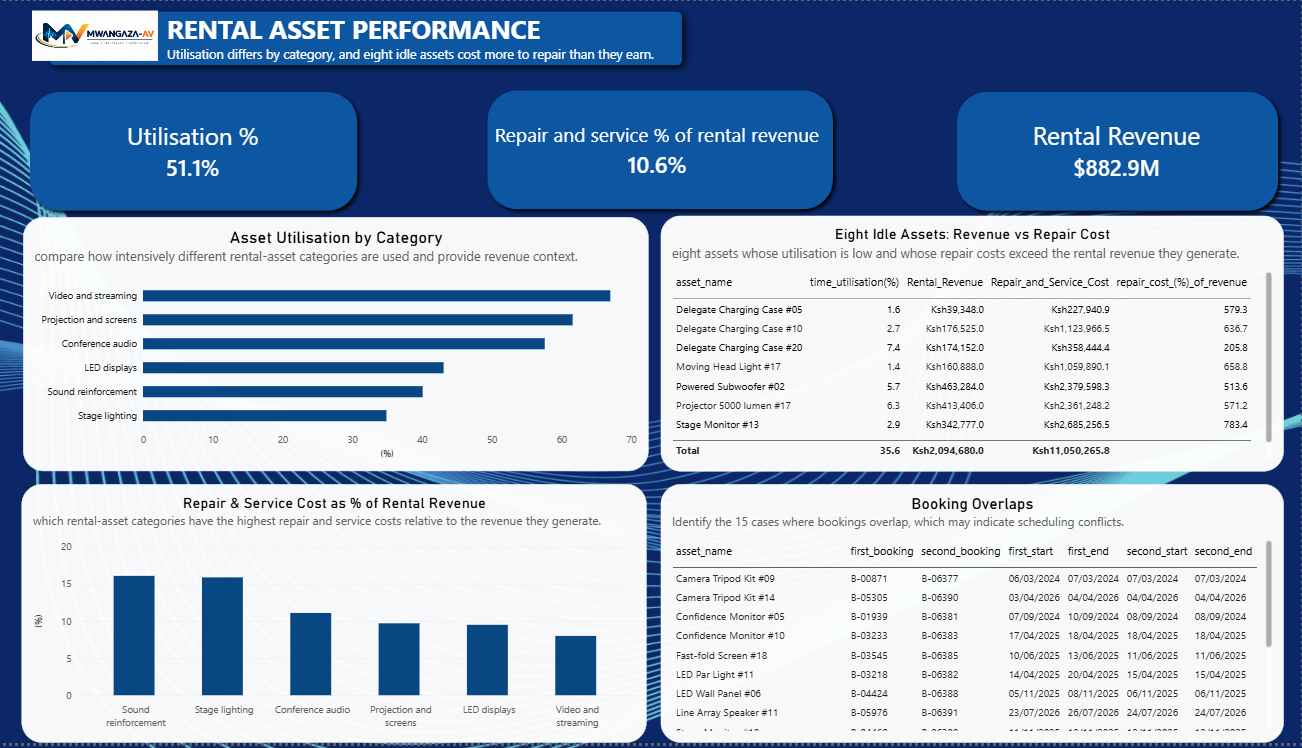

This screenshot's page, from the dashboard's own definition file:
{"tool":"powerbi","page":{"name":"rental assets","canvas":[1920,1080],"ordinal":1},"visuals":[{"type":"shape","box":[85.4,0,950.4,109],"z":0,"group":"g1"},{"type":"shape","box":[1408.7,121.4,487.7,193],"z":1000,"group":"g1"},{"type":"shape","box":[726.4,119.9,523.1,193],"z":2000,"group":"g1"},{"type":"shape","box":[60.4,121.4,496.6,193],"z":3000,"group":"g1"},{"type":"group","id":"g1","title":"Group 1","box":[60.4,0,1836,314.4],"z":3500},{"type":"cardVisual","fields":{"Data":["00_measures.Repair and service % of rental revenue"]},"box":[732.2,139.1,505.9,158.1],"z":4000},{"type":"cardVisual","fields":{"Data":["00_measures.Utilisation %"]},"box":[85.5,121.4,446.9,192.9],"z":5000},{"type":"cardVisual","fields":{"Data":["Sum(mart fact_asset_day.rental_revenue)"]},"box":[1427.8,121.4,450.9,190.2],"z":6000},{"type":"textbox","box":[269.7,14.7,729.1,81.6],"z":7000},{"type":"image","box":[75.1,7.4,183.6,88.4],"z":8000},{"type":"clusteredBarChart","title":"Asset Utilisation by Category","fields":{"Category":["analysis q07_utilisation_by_category.category_name"],"Y":["Sum(analysis q07_utilisation_by_category.time_utilisation_pct)"]},"box":[60.4,315.3,910.6,369.9],"z":9000},{"type":"tableEx","title":"Eight Idle Assets: Revenue vs Repair Cost","fields":{"Values":["analysis q08_idle_assets_and_repair_cost.asset_name","Sum(analysis q08_idle_assets_and_repair_cost.time_utilisation_pct)","Sum(analysis q08_idle_assets_and_repair_cost.rental_revenue)","Sum(analysis q08_idle_assets_and_repair_cost.repair_and_service_cost)","analysis q08_idle_assets_and_repair_cost.repair_cost_pct_of_revenue"]},"box":[988.9,312.8,907.3,372.7],"z":10000},{"type":"clusteredColumnChart","title":"Repair & Service Cost as % of Rental Revenue","fields":{"Category":["analysis q10_repair_economics_by_category.category_name"],"Y":["Avg(analysis q10_repair_economics_by_category.repair_and_service_pct_of_revenue)"]},"box":[59.8,703.2,910,376.8],"z":11000},{"type":"tableEx","title":"Booking Overlaps","fields":{"Values":["analysis q09_double_booked_assets.asset_name","analysis q09_double_booked_assets.first_booking","analysis q09_double_booked_assets.second_booking","analysis q09_double_booked_assets.first_start","analysis q09_double_booked_assets.first_end","analysis q09_double_booked_assets.second_start","analysis q09_double_booked_assets.second_end"]},"box":[988.9,703.2,907.3,376.8],"z":12000}]}

Visuals, with their boxes in screenshot pixels (x1, y1, x2, y2), scaled from the page's 1920x1080 canvas onto the 1302x748 screenshot:
shape: x1=58 y1=0 x2=702 y2=75
shape: x1=955 y1=84 x2=1286 y2=218
shape: x1=493 y1=83 x2=847 y2=217
shape: x1=41 y1=84 x2=378 y2=218
"Group 1" group: x1=41 y1=0 x2=1286 y2=218
cardVisual - 00_measures.Repair and service % of rental revenue: x1=497 y1=96 x2=840 y2=206
cardVisual - 00_measures.Utilisation %: x1=58 y1=84 x2=361 y2=218
cardVisual - Sum(mart fact_asset_day.rental_revenue): x1=968 y1=84 x2=1274 y2=216
textbox: x1=183 y1=10 x2=677 y2=67
image: x1=51 y1=5 x2=175 y2=66
"Asset Utilisation by Category" clusteredBarChart: x1=41 y1=218 x2=658 y2=475
"Eight Idle Assets: Revenue vs Repair Cost" tableEx: x1=671 y1=217 x2=1286 y2=475
"Repair & Service Cost as % of Rental Revenue" clusteredColumnChart: x1=41 y1=487 x2=658 y2=747
"Booking Overlaps" tableEx: x1=671 y1=487 x2=1286 y2=747
